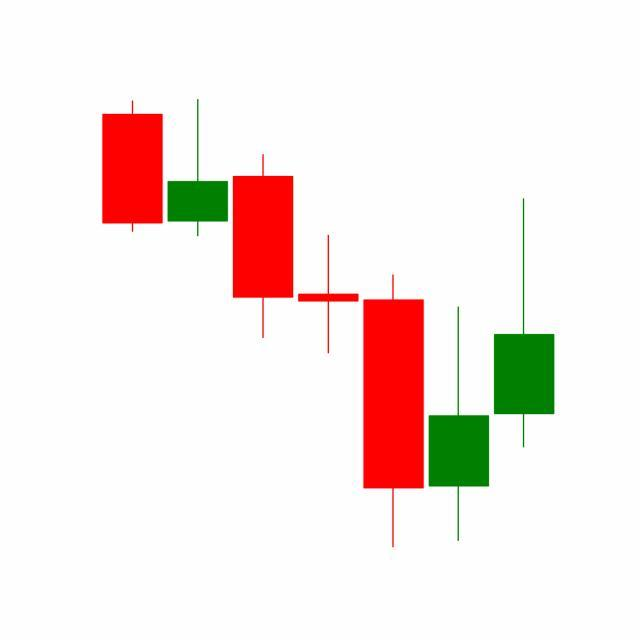Hikkake Pattern: (229, 150, 555, 548)
